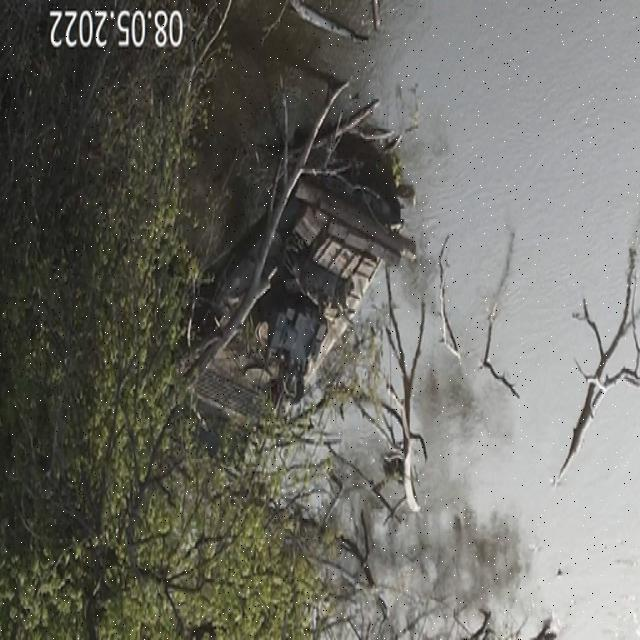APC-IFV: (178, 158, 422, 454)
